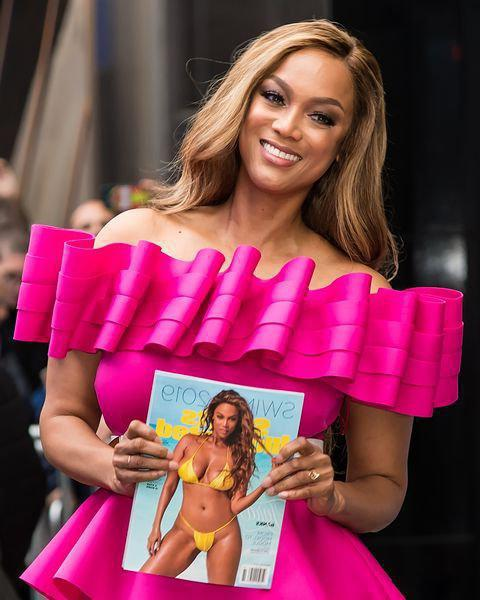Sober: (244, 50, 344, 192)
